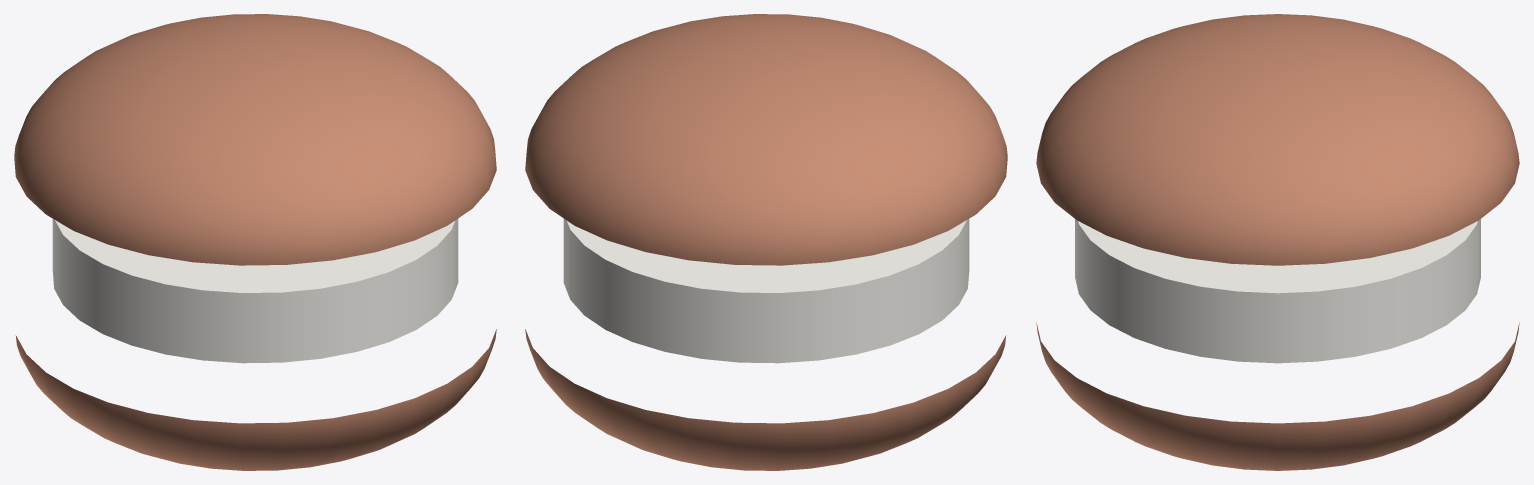
File: macaron.glb
3 renders of one model, left to right at view 1: azimuth 30°, elevation 25°; view 2: azimuth 150°, elevation 25°; view 3: azimuth 270°, elevation 25°, orthographic.
Bounding box in the file's own units: 1 × 0.86 × 1.
